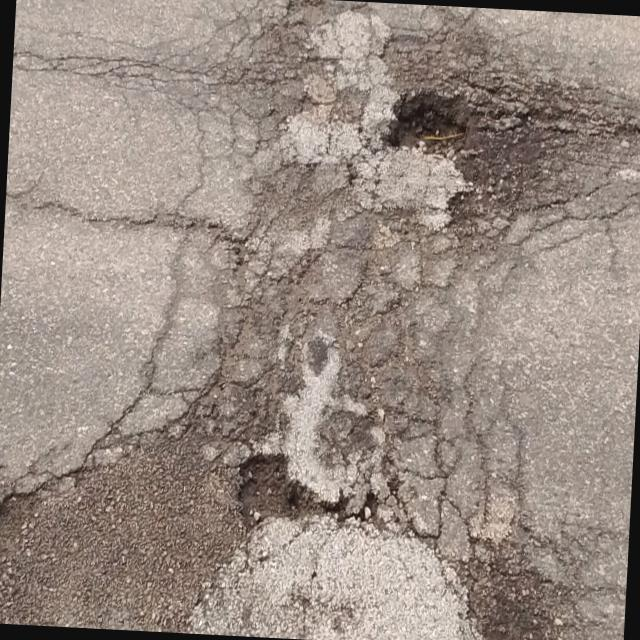bad-road: (200, 0, 374, 444), (470, 55, 640, 213), (236, 452, 358, 536), (462, 539, 563, 640), (379, 80, 474, 162)
